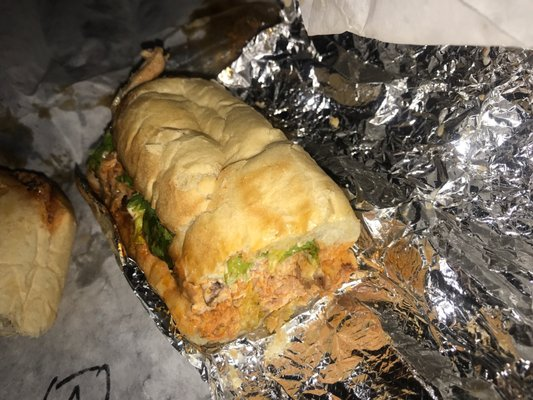soup: (85, 43, 362, 350)
